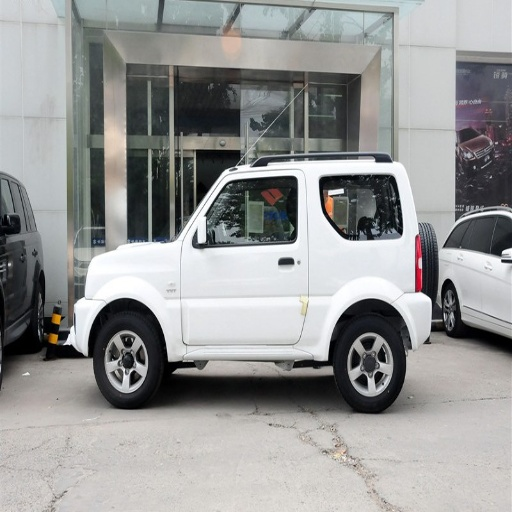back_left_door: (255, 172, 307, 342)
trunk: (302, 239, 432, 350)
